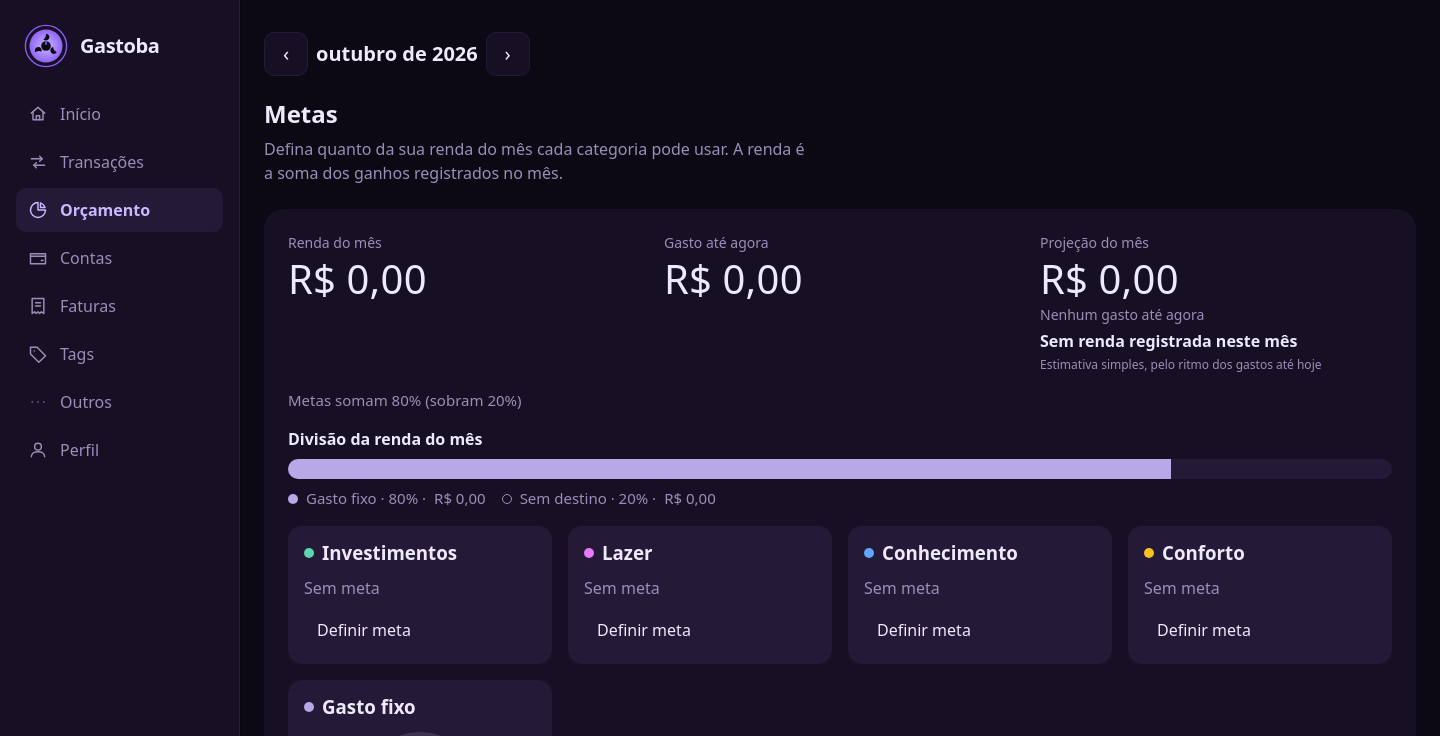
Test case: Orcamento › soma acima de 100%: avisa que a meta está extrapolando e não envia nada
Expected: the list item "Lazer" is shown, [568,526,832,664]
Click the button with aria-label "Definir meta de Lazer" at coordinates (644, 630), box [584,612,704,648]
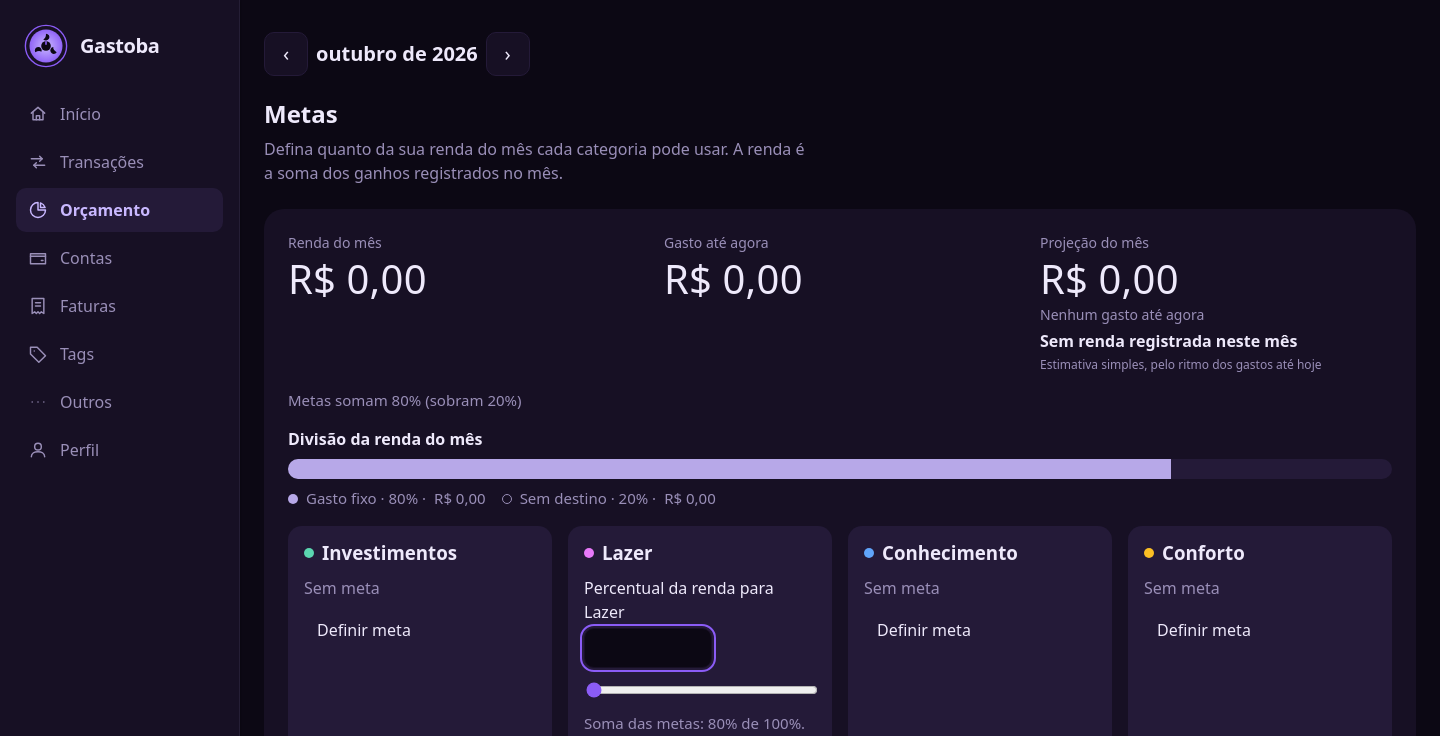
Type "30" into the field labelled "Percentual da renda para Lazer" at coordinates (648, 648), box [584,628,712,668]
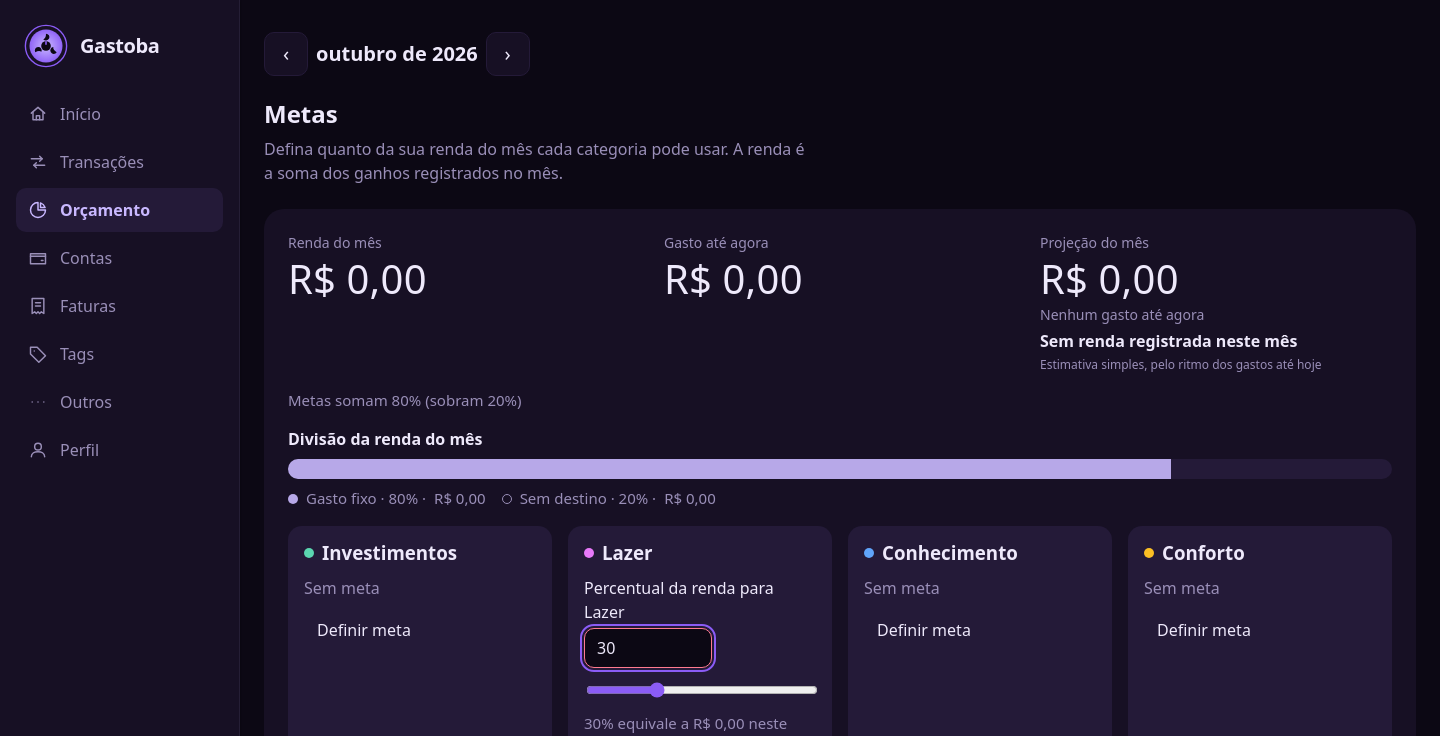
Replace the text in the field labelled "Percentual da renda para Lazer" with "20" at coordinates (648, 648), box [584,628,712,668]
(page scrolled)
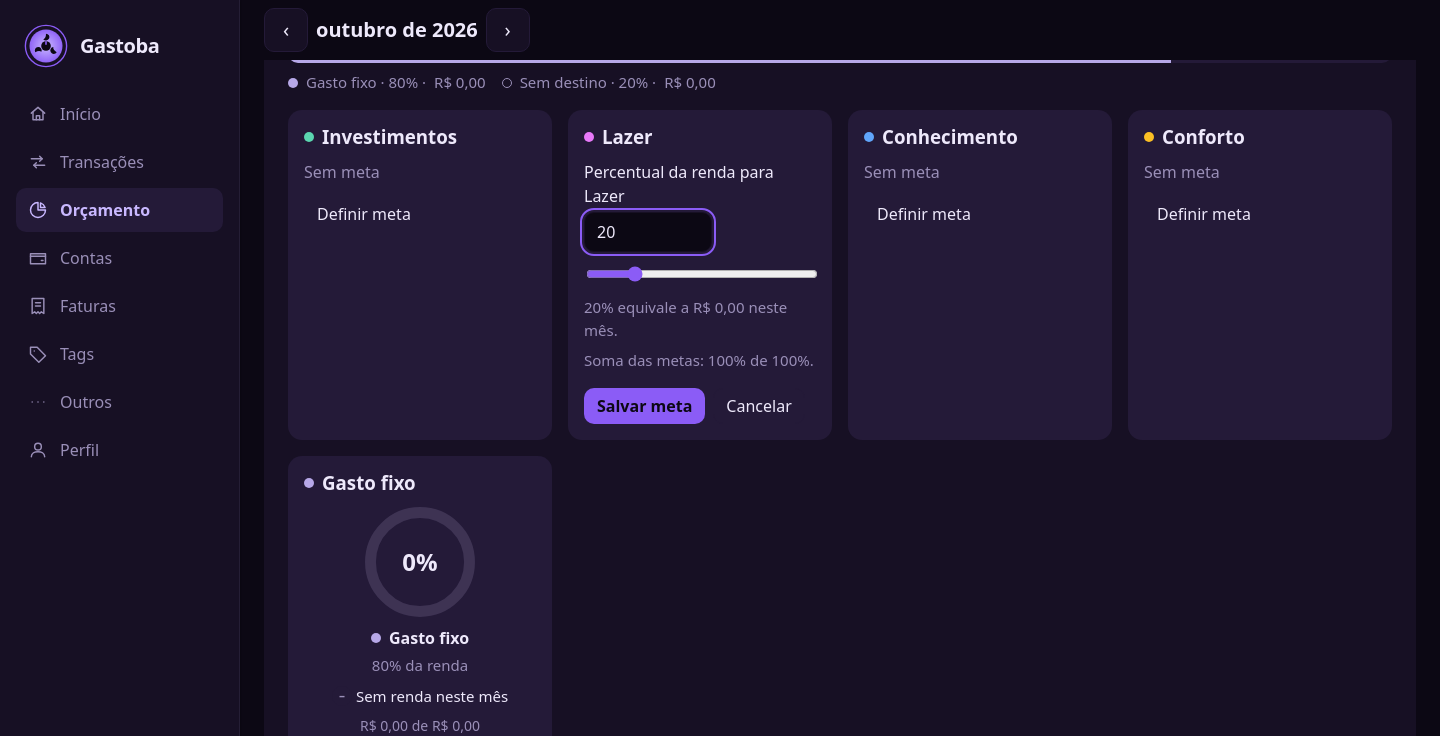
Now the button "Salvar meta" is enabled, box [584,388,705,424]
